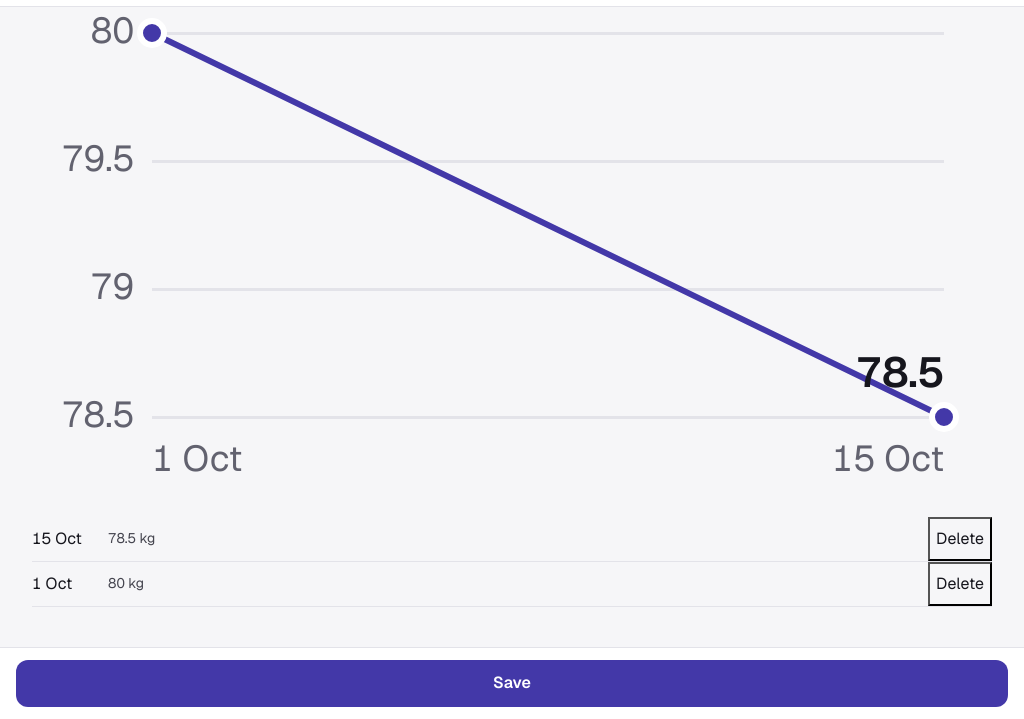
Test: E22-T7 O19 reading and deleting entries › O19 Delete removes the entry at once with an Undo snackbar, and Undo puts it back
This screenshot has width=1024, height=719.
(page scrolled)
Expected: the list named "Entries" is shown, x1=32 y1=517 x2=992 y2=607
Click the button with aria-label "Delete 15 Oct": x=960, y=539 x1=928 y1=517 x2=992 y2=561
(page scrolled)
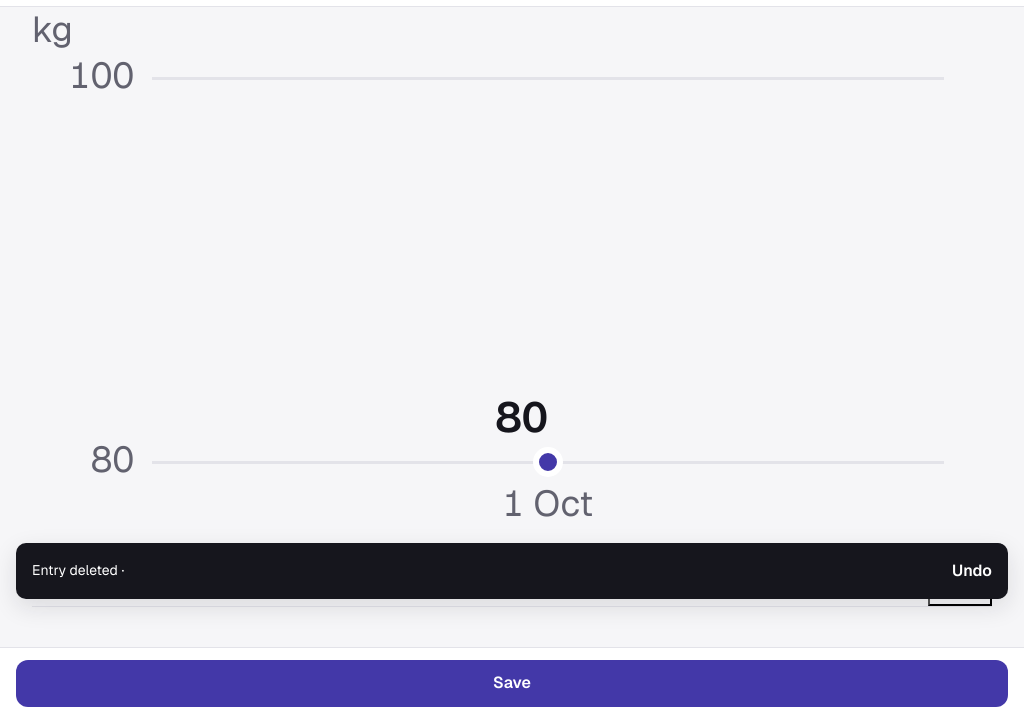
Result: the message shows "Entry deleted" at x1=32 y1=561 x2=118 y2=579
Click the button "Undo": x=972, y=571 x1=936 y1=543 x2=1008 y2=599
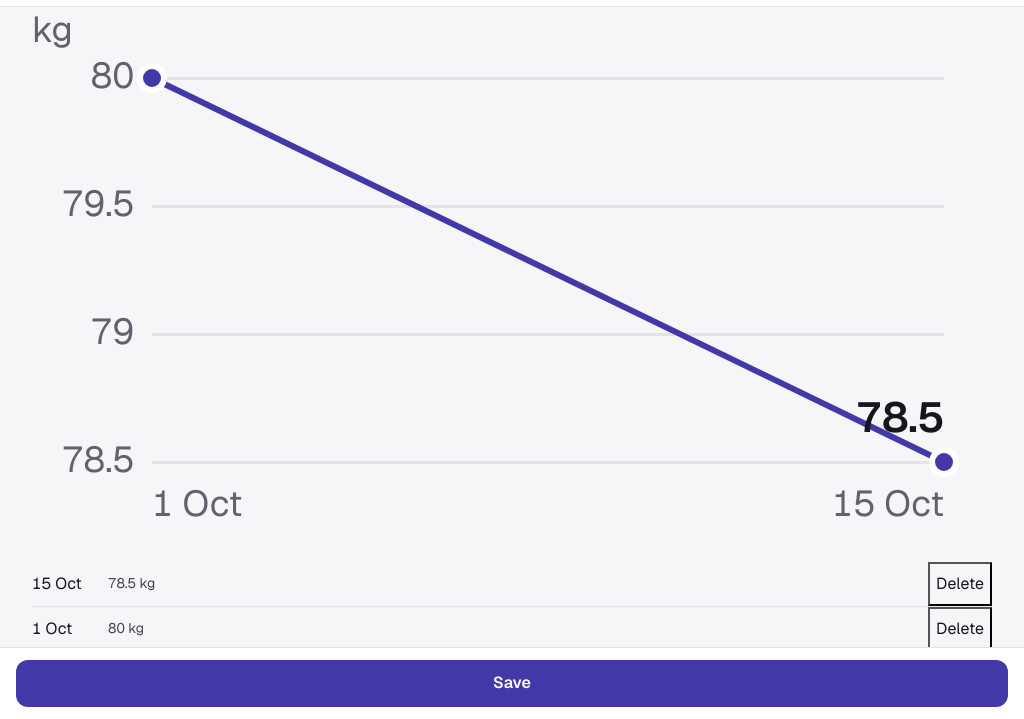
Result: the message "Entry deleted · Undo" is gone
